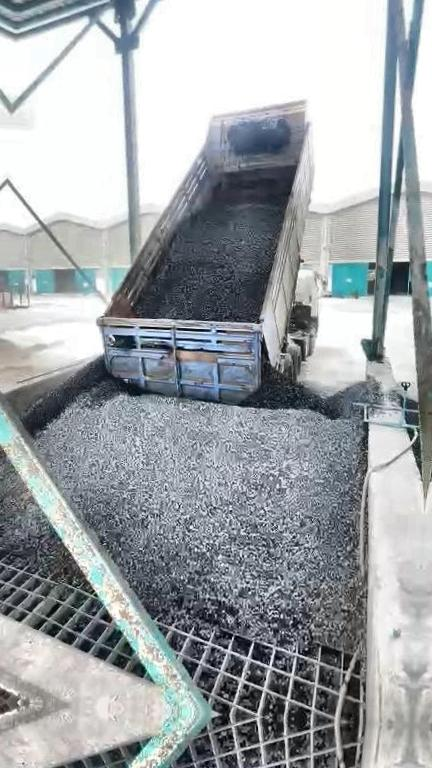gravel: (37, 384, 366, 651), (136, 167, 295, 321), (0, 438, 93, 591), (243, 361, 386, 419), (21, 356, 117, 436)
sand: (0, 339, 60, 391)
